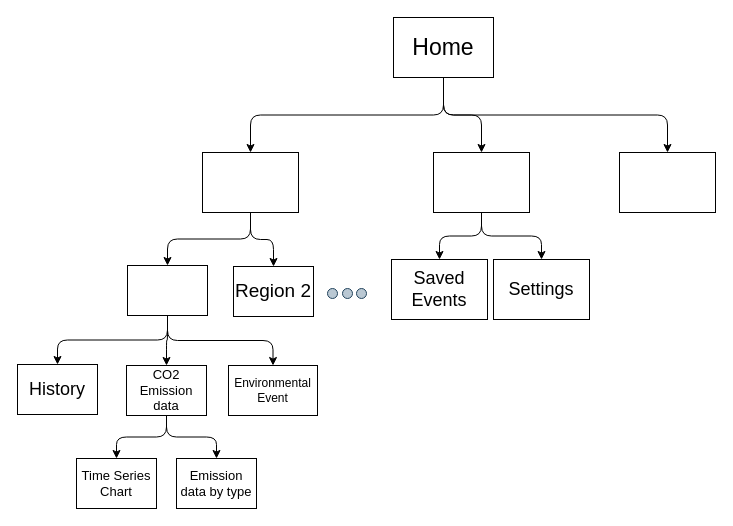
This 733x526 diagram has some shape labels left out. Each missing label, with the centre of its shape:
"Contact Us" goes at point (667, 182).
"Map" goes at point (250, 182).
"Region 1" goes at point (167, 290).
"User Profile" goes at point (481, 182).
